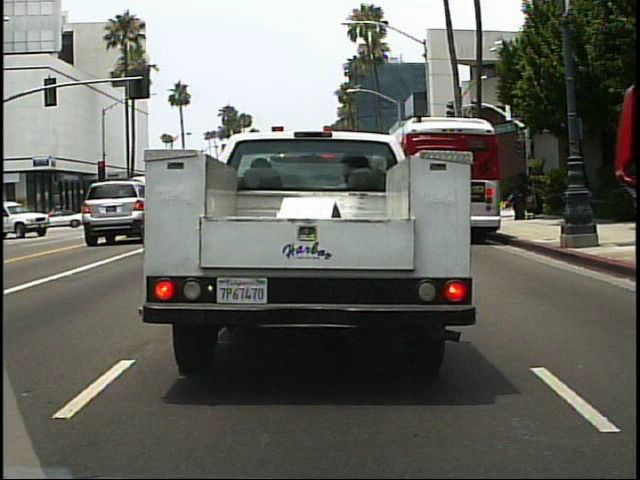person: (510, 170, 534, 222), (18, 199, 37, 234)
